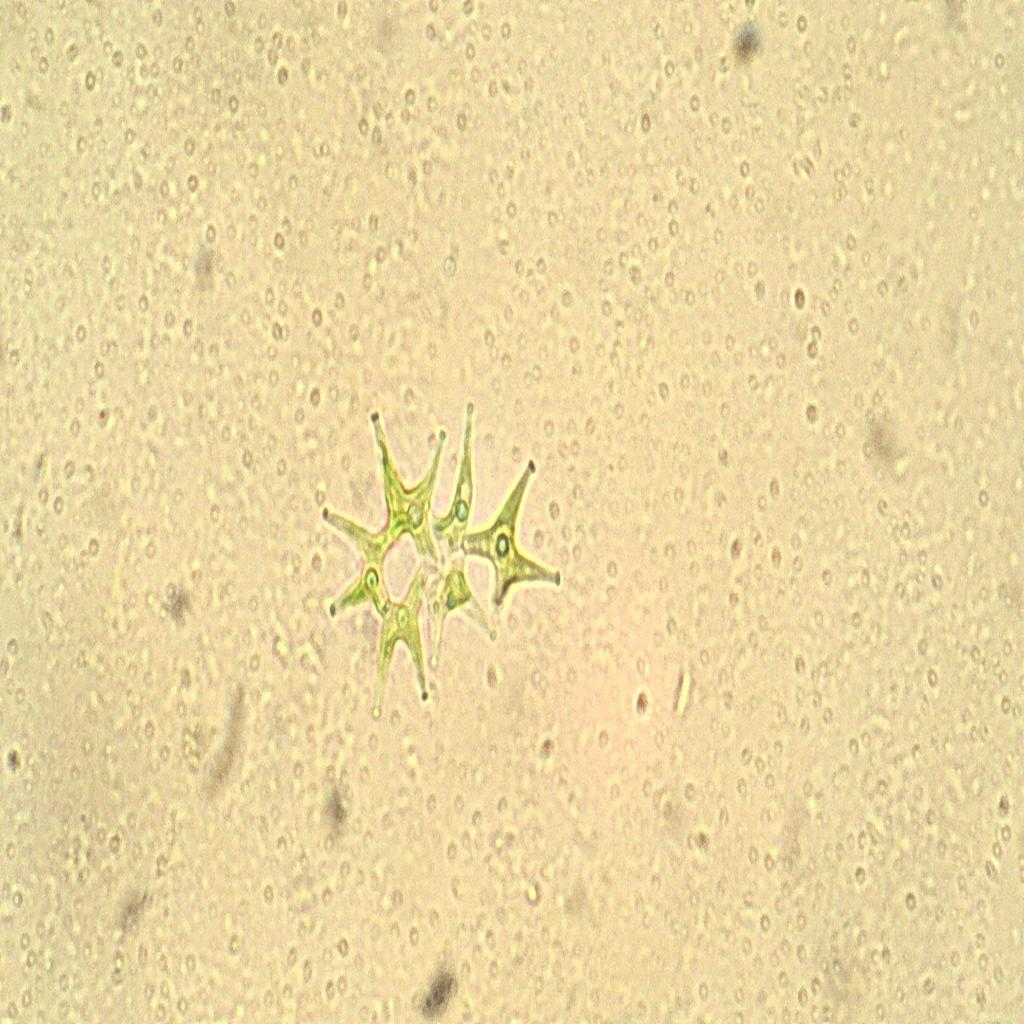Pediastrum_1TH: (304, 395, 580, 733)
